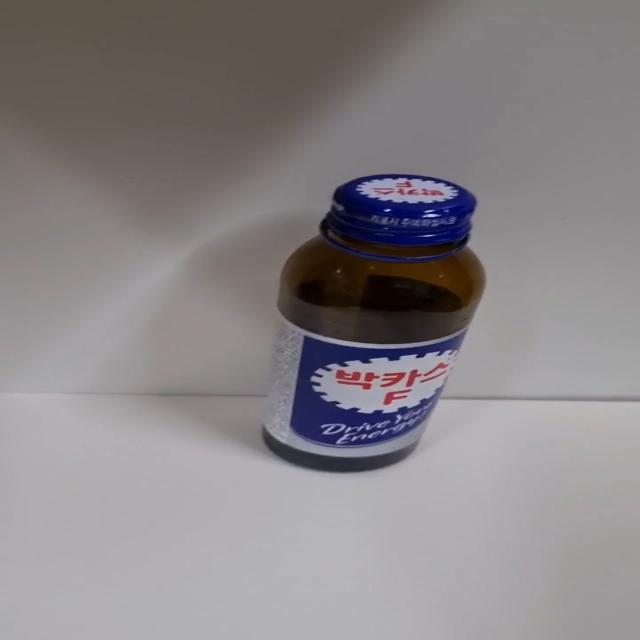Glass: (260, 174, 488, 476)
